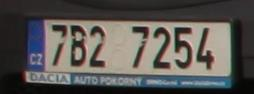2: (153, 26, 172, 70), (90, 26, 108, 68)
4: (195, 26, 216, 71)
5: (173, 25, 194, 70)
7: (131, 25, 150, 68), (50, 24, 68, 69)
B: (69, 24, 89, 68)
